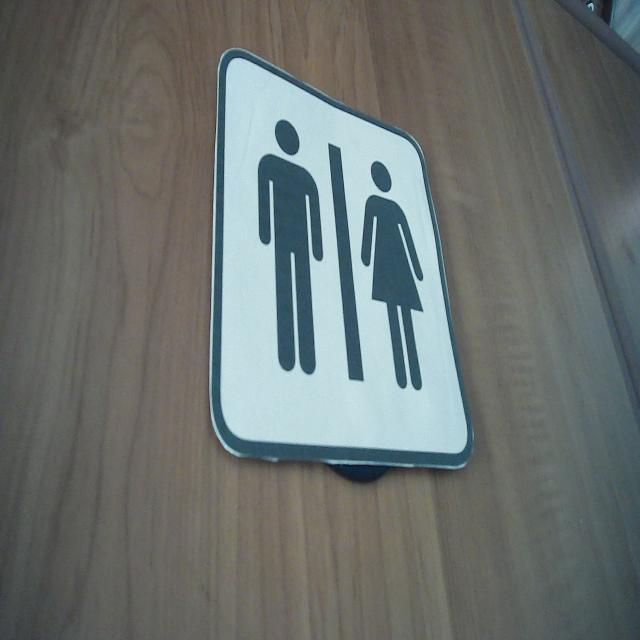restroom: (206, 43, 477, 474)
